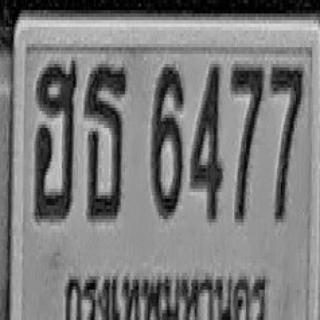A24: (84, 64, 127, 219)
A44: (34, 59, 77, 221)
N04: (190, 62, 223, 221)
N06: (151, 64, 184, 216)
N07: (270, 62, 303, 221), (231, 62, 263, 221)
P04: (67, 258, 267, 319)
